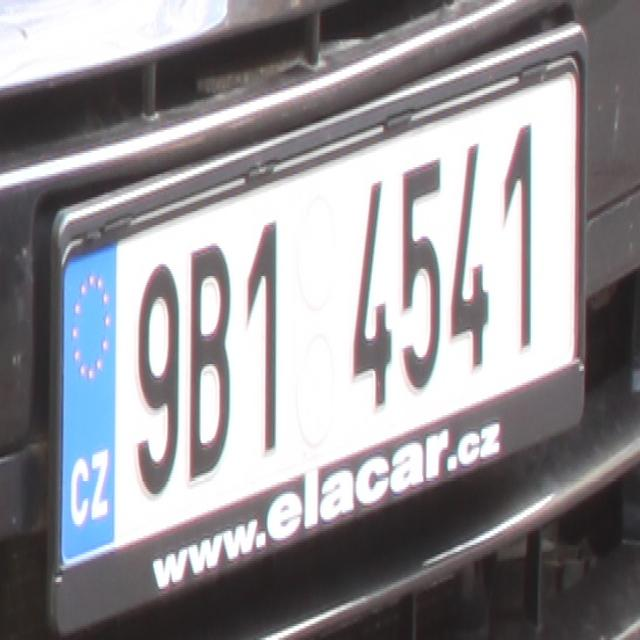1: (506, 123, 538, 348), (250, 220, 281, 450)
4: (448, 139, 494, 383), (351, 183, 396, 415)
5: (399, 153, 442, 387)
9: (136, 264, 180, 487)
B: (184, 241, 233, 480)
